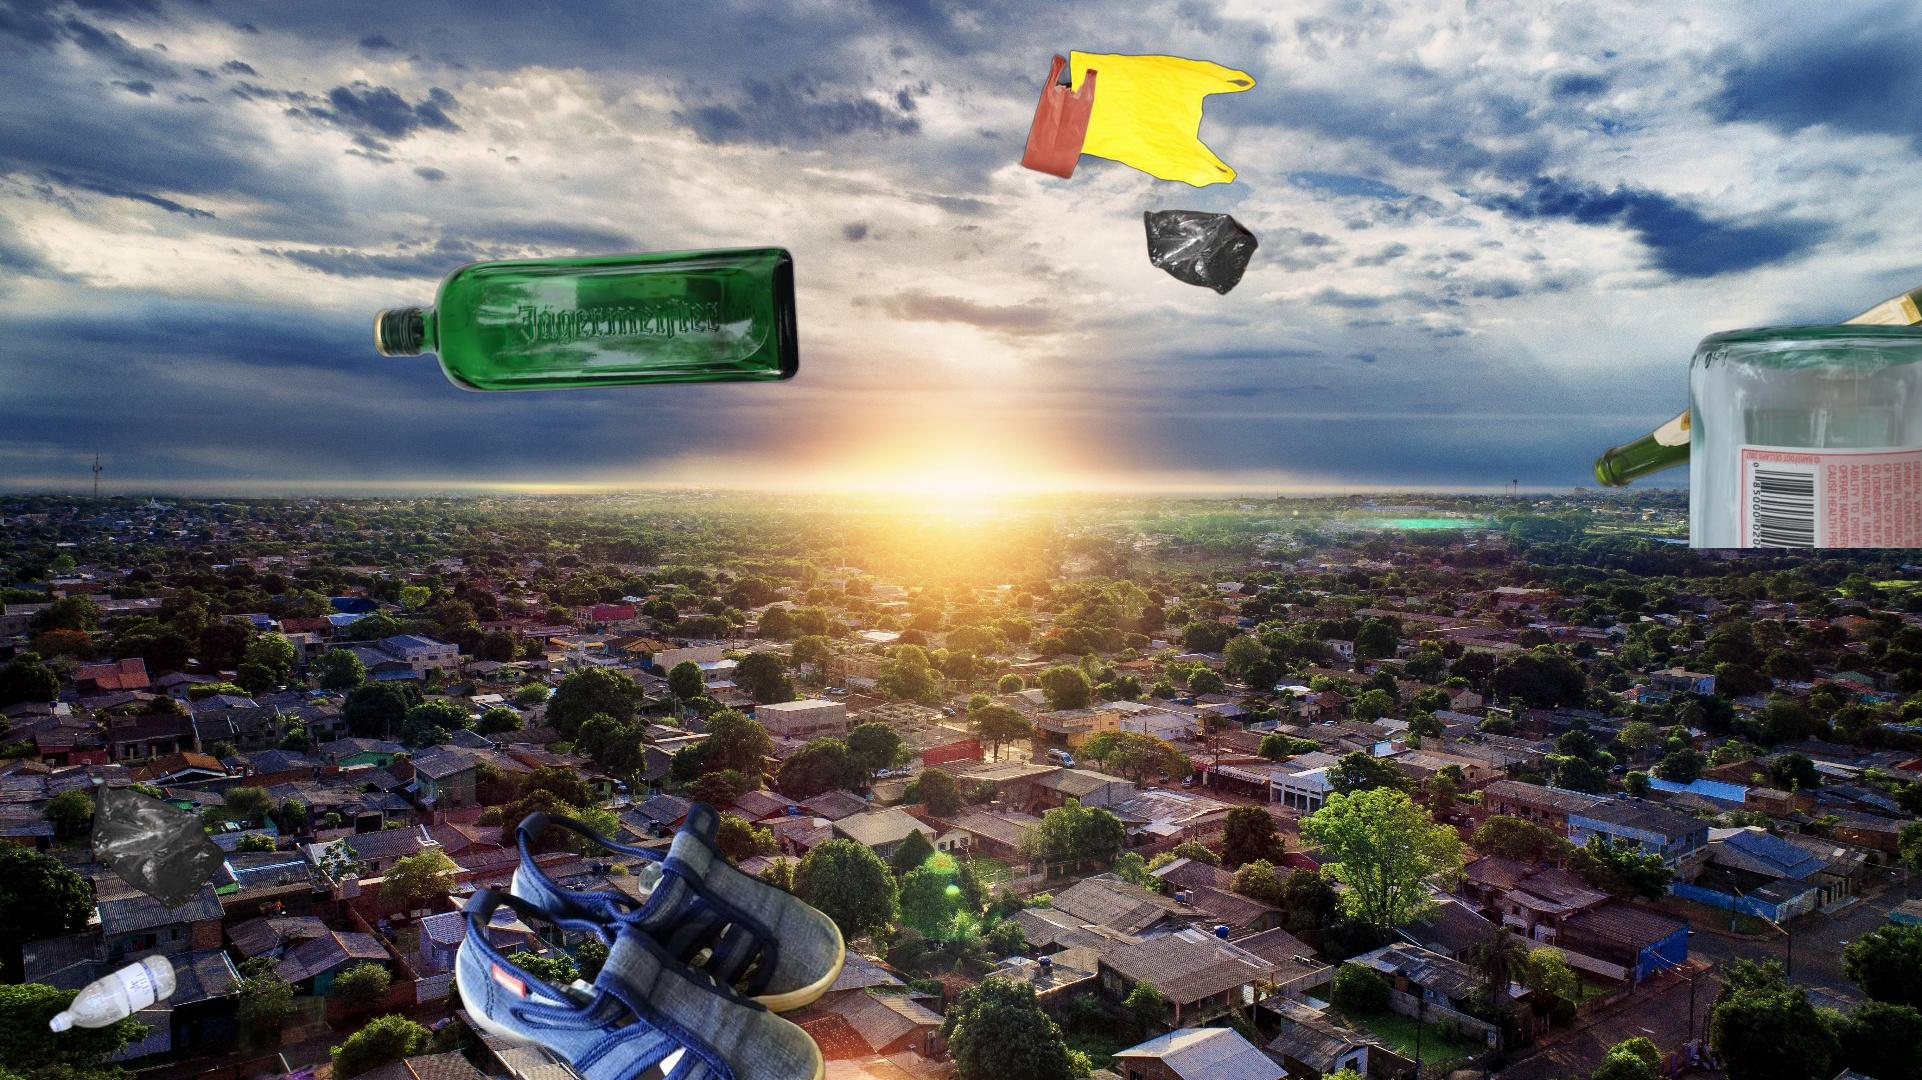biological: (232, 996, 532, 1080)
glass: (368, 230, 804, 396), (1589, 280, 1922, 489), (1684, 321, 1922, 548)
plastic-bag: (1018, 34, 1261, 298), (86, 770, 227, 914)
plastic-bottles: (44, 947, 181, 1039)
shoes: (432, 775, 850, 1080)
